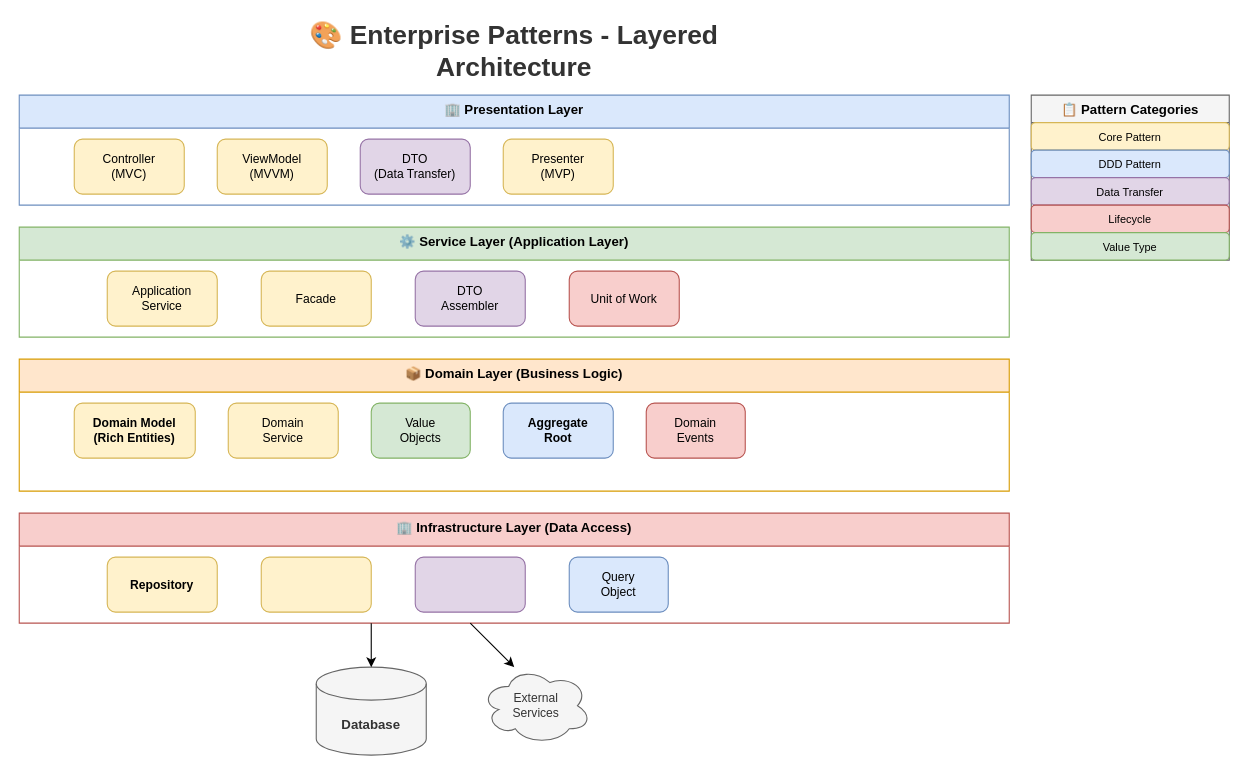
Image size: 1249x774. Some labels were removed from this diagram. Here are the shapes that lost their labels. From the top down, the centre of each, then its label:
the point at 315,584: Data Mapper (ORM)
the point at 469,584: Gateway (External API)
